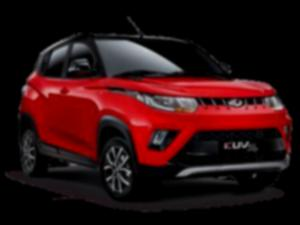License_Plate: (216, 126, 275, 162)
